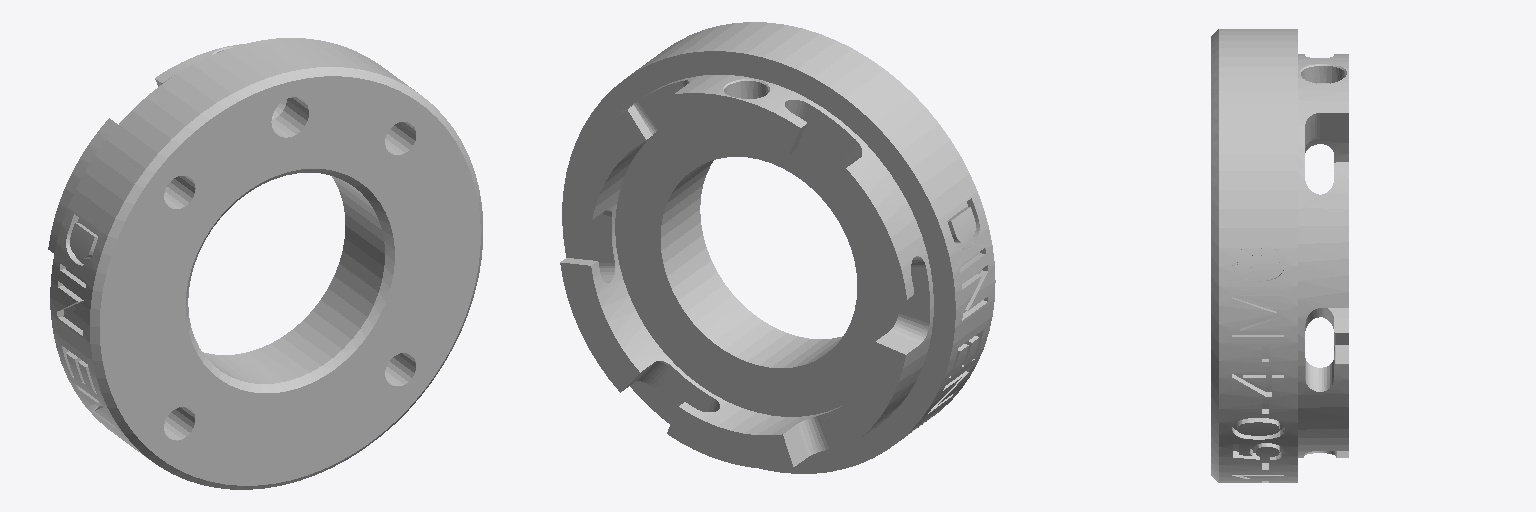
The model's file is Sixi3 Hand DIN EN ISO 9409-1-50-4-M6 v6.obj.
The picture shows the model from 3 angles: view 1: azimuth 30°, elevation 25°; view 2: azimuth 150°, elevation 25°; view 3: azimuth 270°, elevation 25°; orthographic projection.
Visible parts, largest first — view 1: Sixi3_Hand_DIN_EN_ISO_9409-1-50-4-M6_v6; view 2: Sixi3_Hand_DIN_EN_ISO_9409-1-50-4-M6_v6; view 3: Sixi3_Hand_DIN_EN_ISO_9409-1-50-4-M6_v6.
Part boxes in pixels (x1,y1,x2,y2): Sixi3_Hand_DIN_EN_ISO_9409-1-50-4-M6_v6: (48, 38, 482, 489); Sixi3_Hand_DIN_EN_ISO_9409-1-50-4-M6_v6: (560, 22, 995, 473); Sixi3_Hand_DIN_EN_ISO_9409-1-50-4-M6_v6: (1211, 29, 1348, 482).
Bounding box in the file's own units: 6.3 × 6.3 × 1.9.